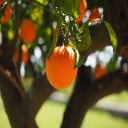orange: (45, 40, 83, 90)
